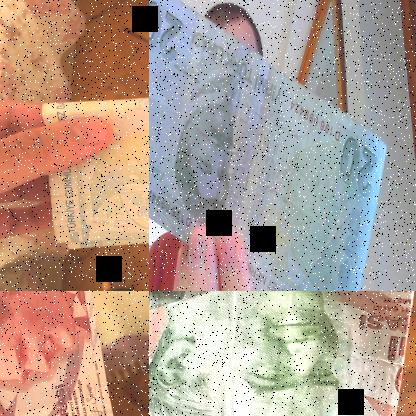5 TL: (40, 90, 148, 251)
